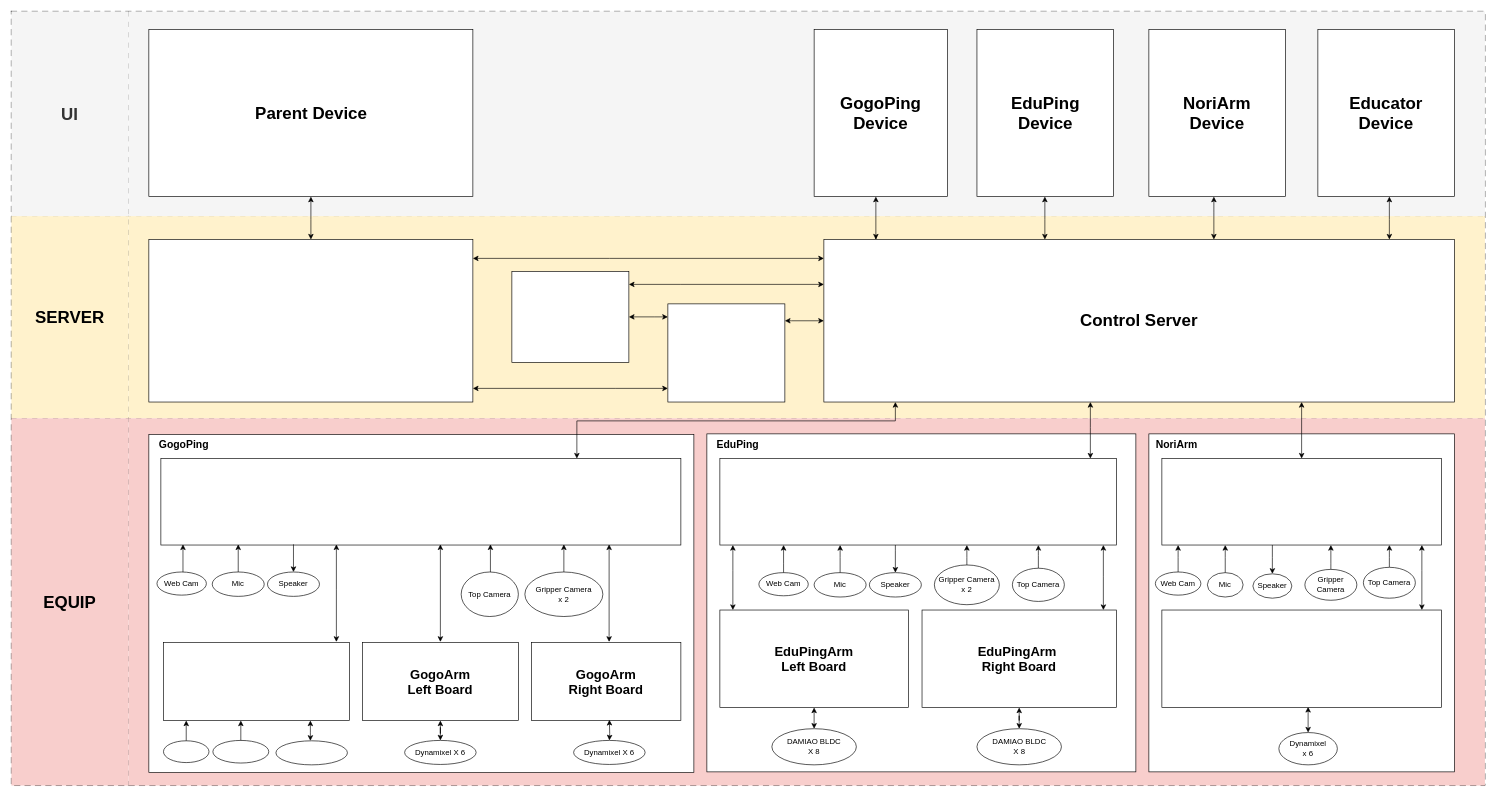
This 1496x797 diagram has some shape labels left out. Here are the shapes that lost their labels. From the top down, the box of each, then its label:
(148, 239, 473, 402): Web Server
(511, 271, 629, 362): AI Server
(667, 303, 785, 402): DB Server
(160, 458, 681, 545): GogoPing Main Board
(719, 458, 1116, 545): EduPing Main Board
(1161, 458, 1441, 545): NoriArm Main Board
(1161, 609, 1441, 708): NoriArm Board
(163, 642, 349, 721): GogoPing Board
(163, 740, 209, 763): Battery
(212, 740, 269, 763): RPLiDAR C1
(275, 740, 347, 765): DC Motor X 2
